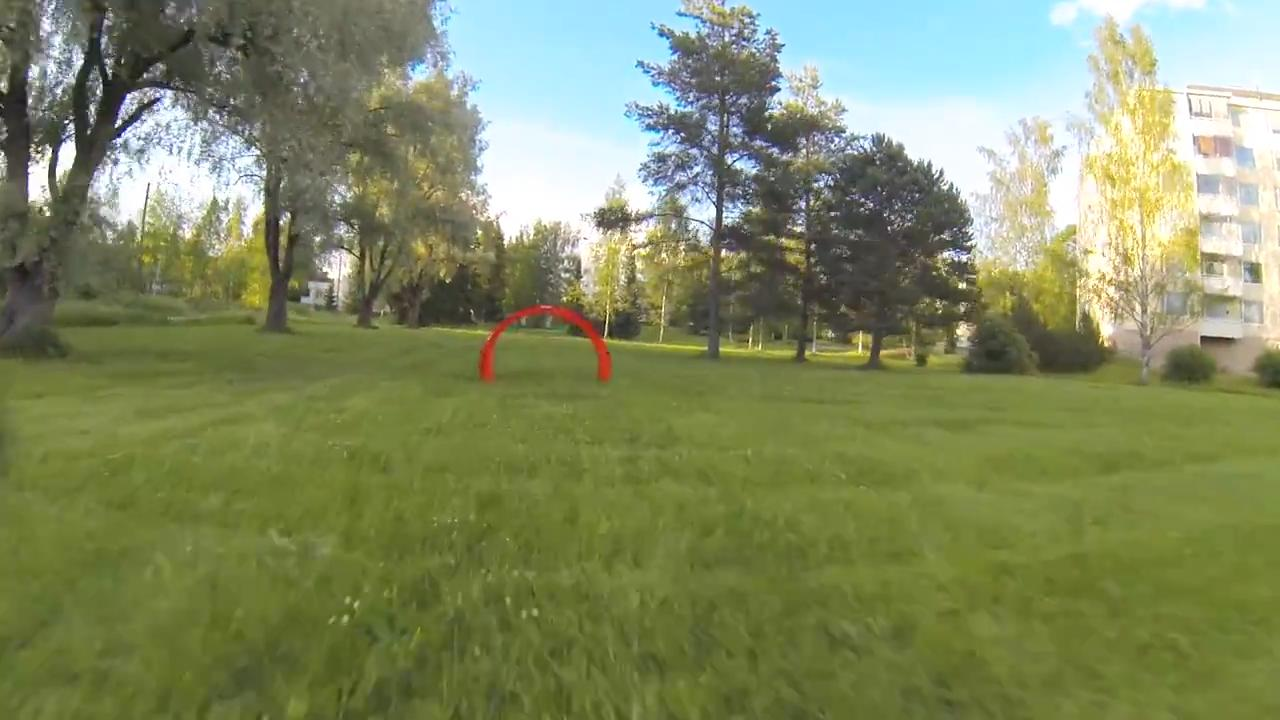gate: (474, 300, 612, 385)
